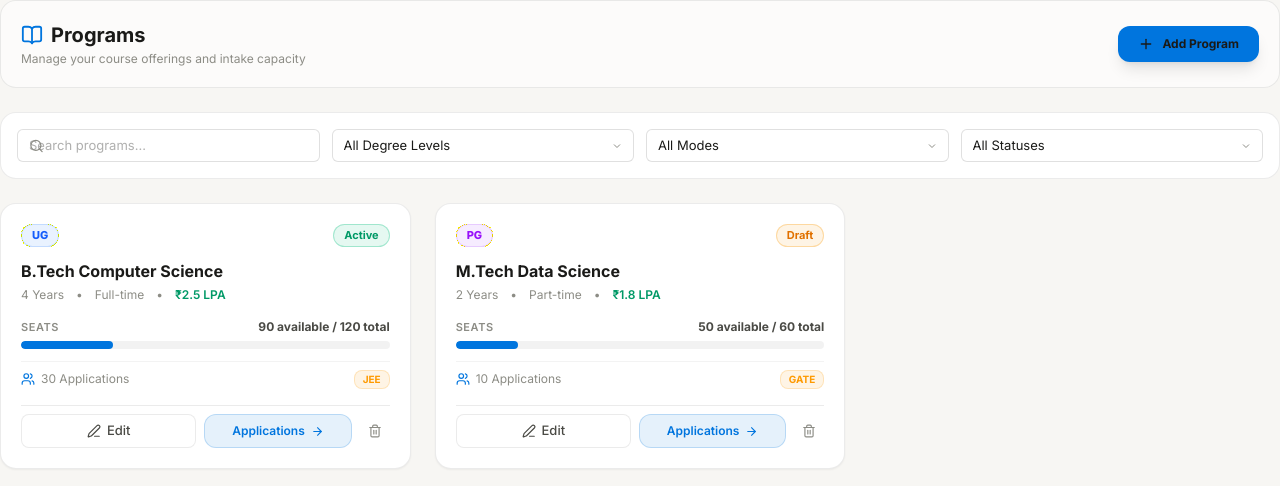
it: ProgramsPage Redesign › filters programs by degree level dropdown
This screenshot has width=1280, height=486.
Expected: the heading "B.Tech Computer Science" is shown, [21,261,223,281]
Select "PG Level" in the 1st dropdown showing "All Degree Levels" at (483, 146), box [332,129,634,162]
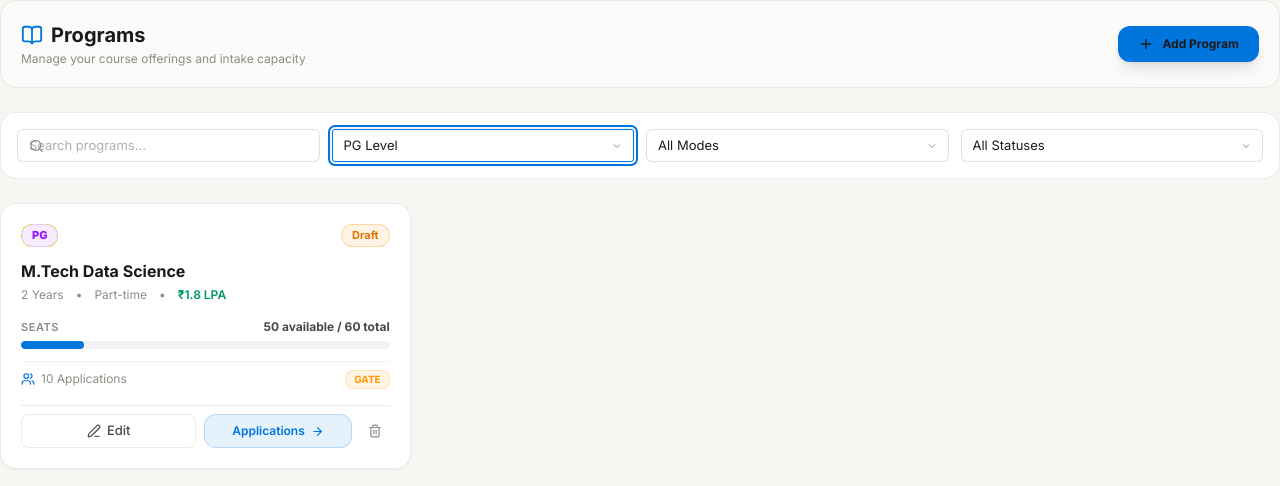
Expected: the heading "M.Tech Data Science" is shown, [21,261,185,281]
Now the heading "B.Tech Computer Science" is gone
